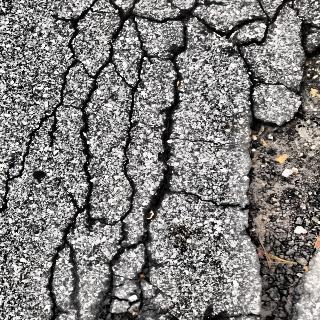alligator-crack: (0, 112, 224, 320), (1, 0, 284, 109)
pothole: (239, 116, 320, 319), (291, 48, 320, 116)
